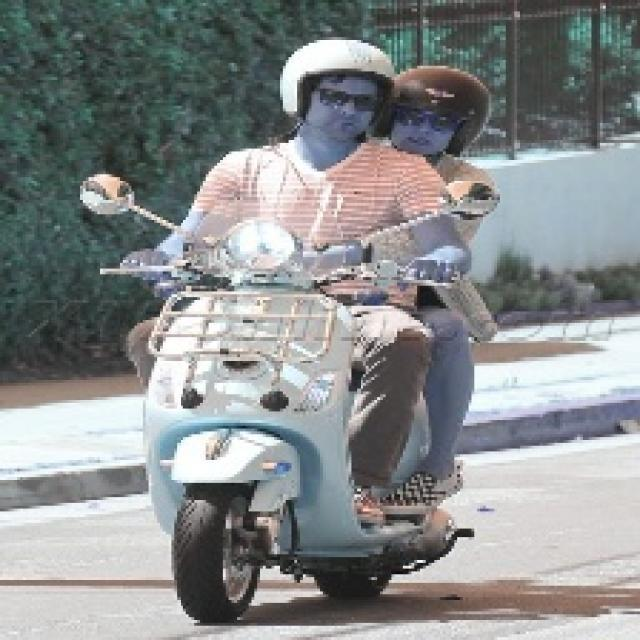bike: (120, 248, 393, 632)
